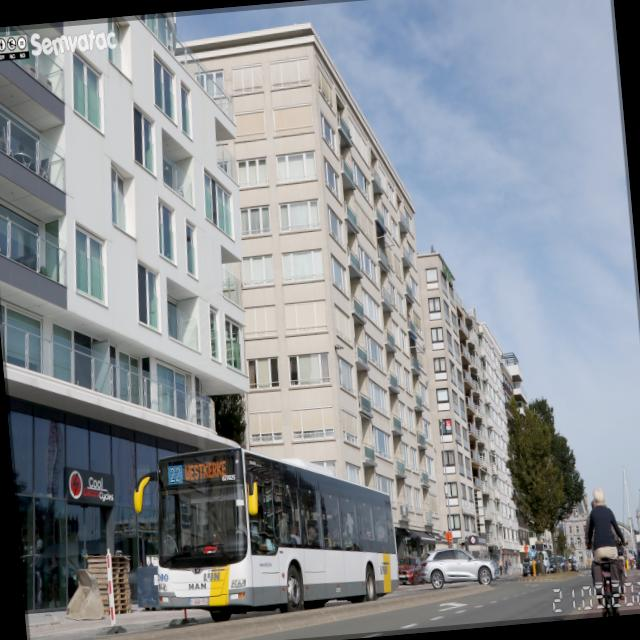bus-number: (167, 464, 183, 484)
